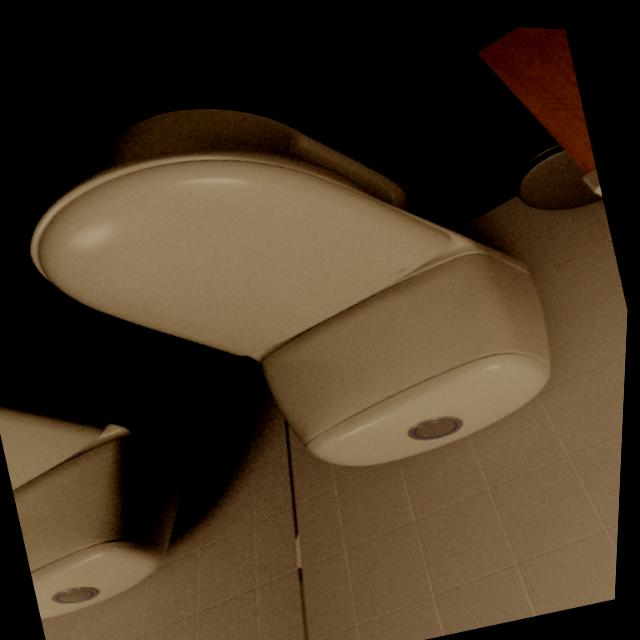toilet: (0, 18, 587, 545)
